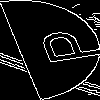P: (25, 25, 100, 68)
